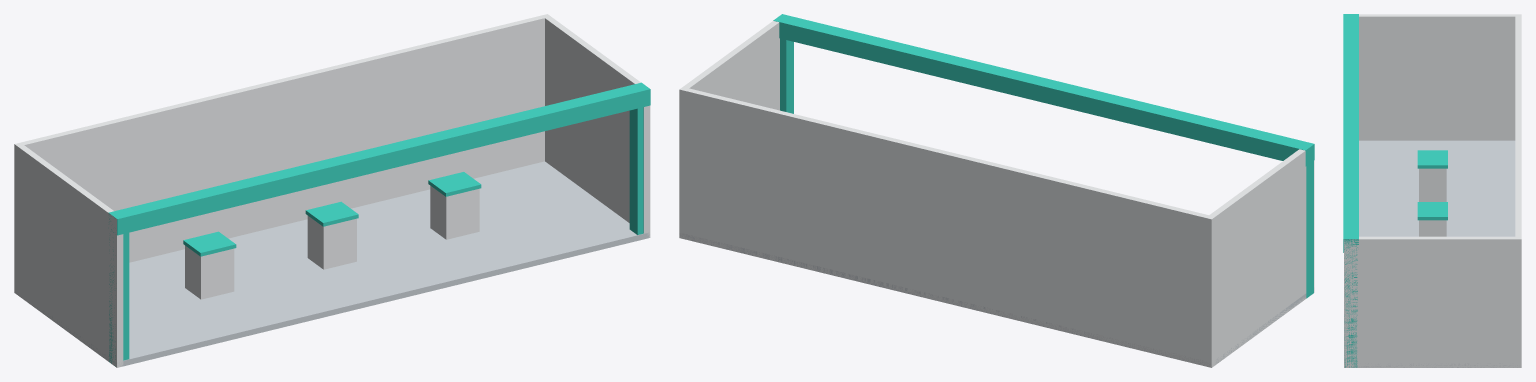
3 views of the same model, side by side, from view 1: azimuth 30°, elevation 25°; view 2: azimuth 150°, elevation 25°; view 3: azimuth 270°, elevation 25° (orthographic). The views are drawn at different scales.
Parts seen in each view (by area): view 1: Exhibition Booth Concept; view 2: Exhibition Booth Concept; view 3: Exhibition Booth Concept.
Part boxes in pixels (bbox=[...]): Exhibition Booth Concept: bbox=[14, 14, 650, 367]; Exhibition Booth Concept: bbox=[679, 14, 1314, 367]; Exhibition Booth Concept: bbox=[1343, 14, 1521, 367].
Bounding box in the file's own units: 12 × 3.2 × 4.02.
